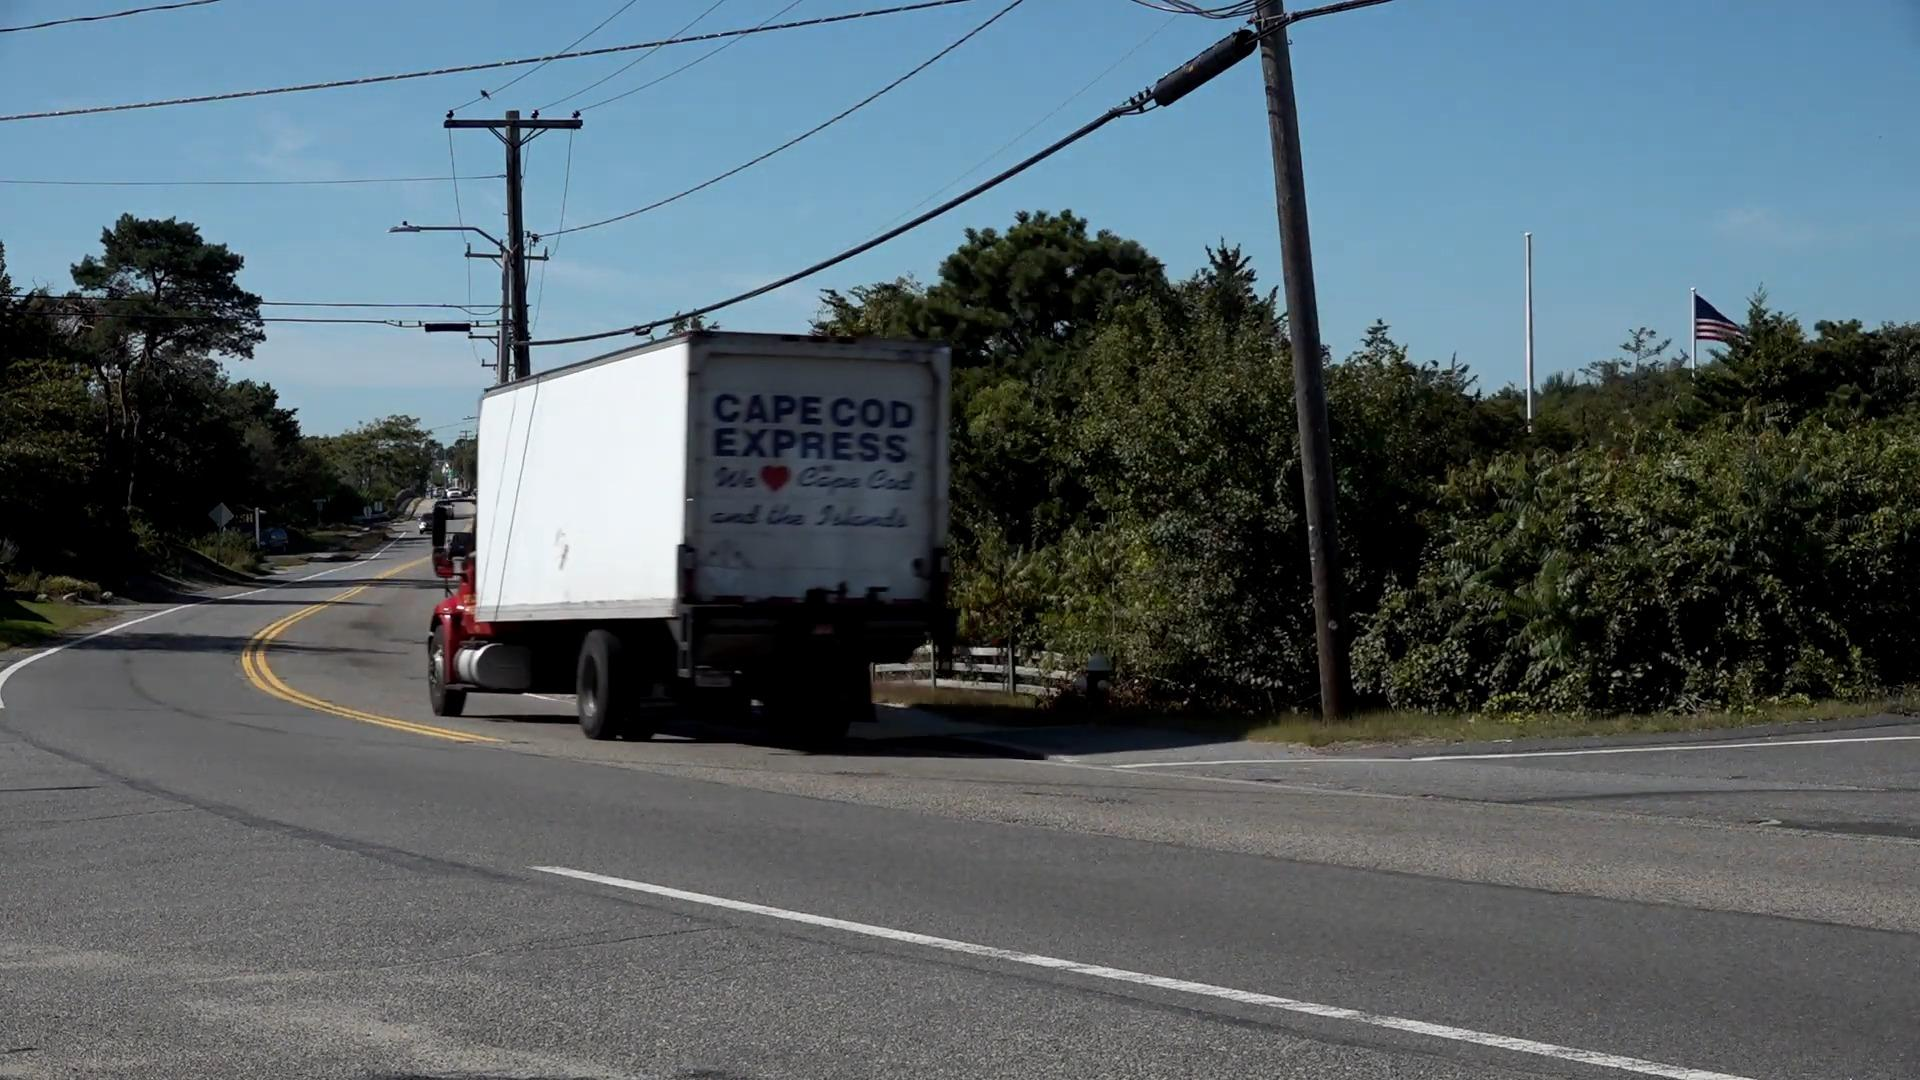truck: (422, 337, 947, 740)
